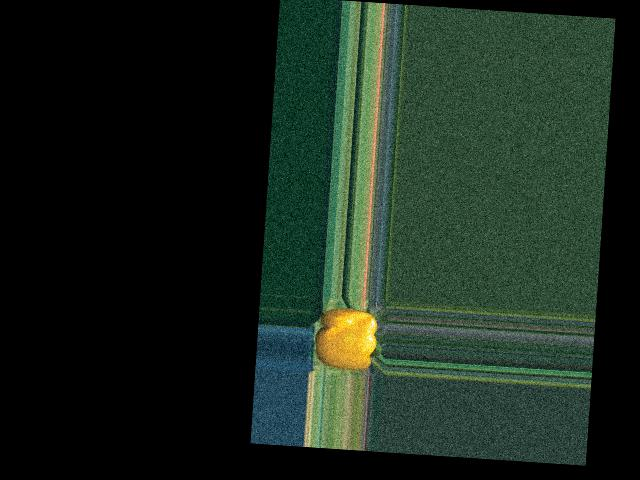bell_pepper: (312, 301, 384, 375)
